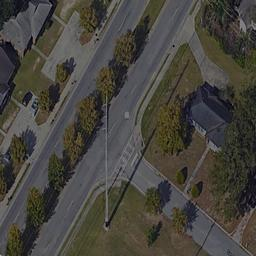Car: (116, 15, 126, 34), (21, 91, 32, 108)
Crosswalk: (107, 134, 145, 174)
Stop Line: (129, 155, 138, 166)
White Dashed Line: (128, 4, 187, 98), (9, 133, 63, 228), (45, 195, 76, 256)
